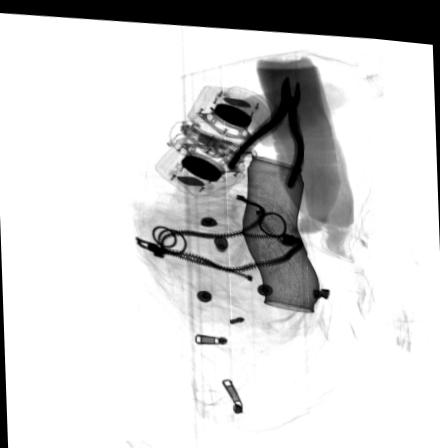Pliers: (226, 67, 305, 181)
